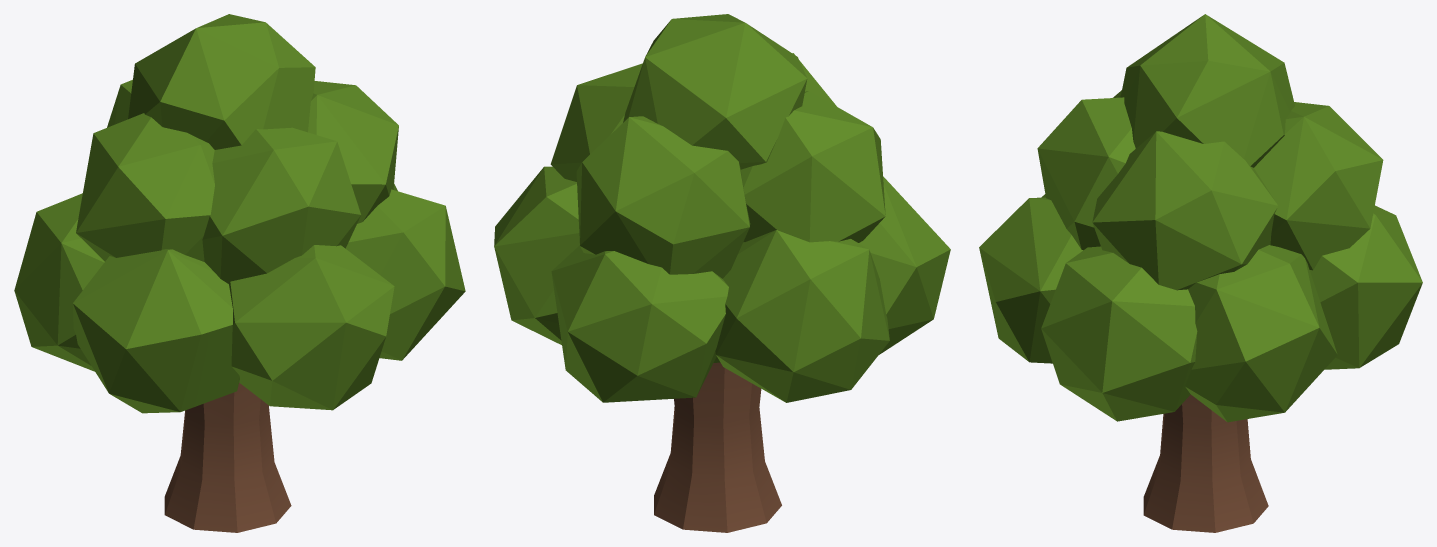
The model's file is Natures_Big_Tree.glb.
The picture shows the model from 3 angles, left to right: view 1: azimuth 30°, elevation 25°; view 2: azimuth 150°, elevation 25°; view 3: azimuth 270°, elevation 25°; orthographic projection. The views are drawn at different scales.
Visible parts, largest first — view 1: Natures_Big Tree; view 2: Natures_Big Tree; view 3: Natures_Big Tree.
Part boxes in pixels (left/top/right/bottom): Natures_Big Tree: left=14, top=14, right=465, bottom=532; Natures_Big Tree: left=494, top=14, right=950, bottom=532; Natures_Big Tree: left=979, top=14, right=1422, bottom=532.
Bounding box in the file's own units: 4.95 × 6.12 × 5.15.
Materials: 1 (1 with a texture image).
